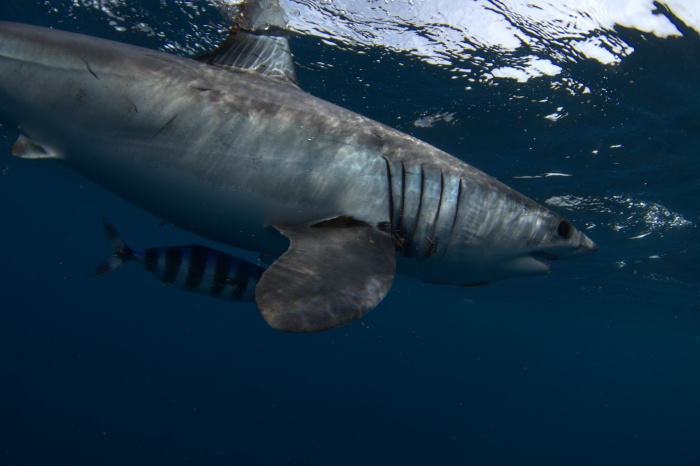Mako: (1, 1, 615, 346)
